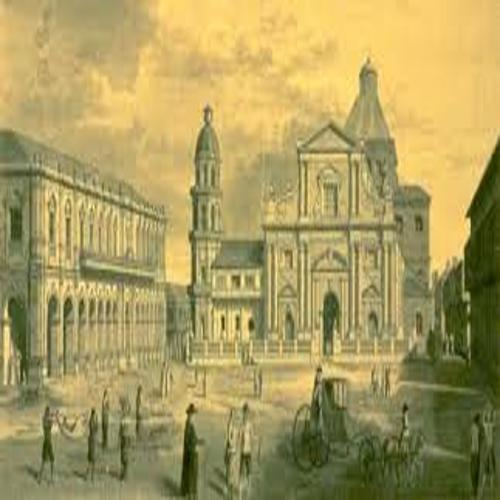Manila Cathedral Church: (160, 31, 436, 369)
